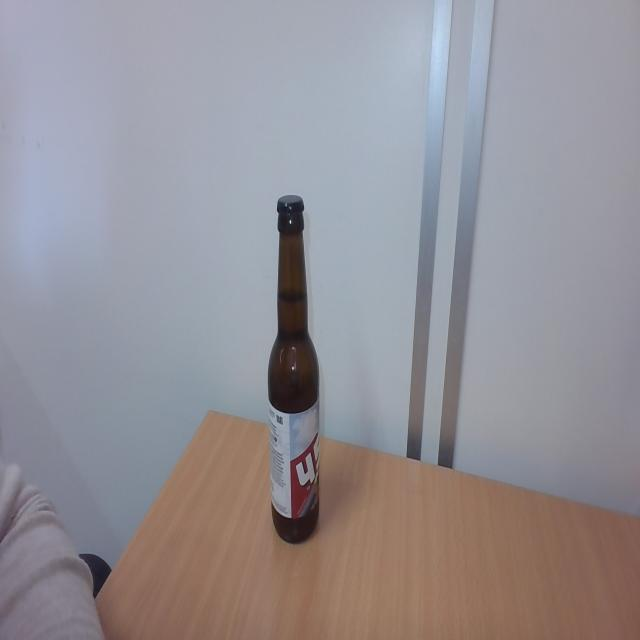Bottle: (268, 216, 320, 545)
Cap: (275, 192, 304, 218)
Label: (266, 401, 321, 524)
